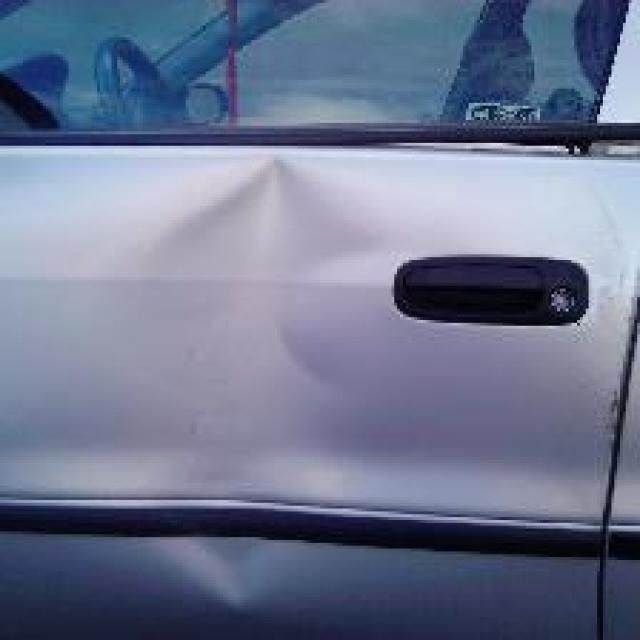damaged: (131, 157, 383, 614)
